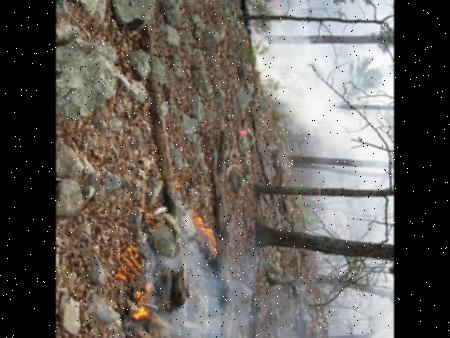fire: (111, 195, 235, 338)
